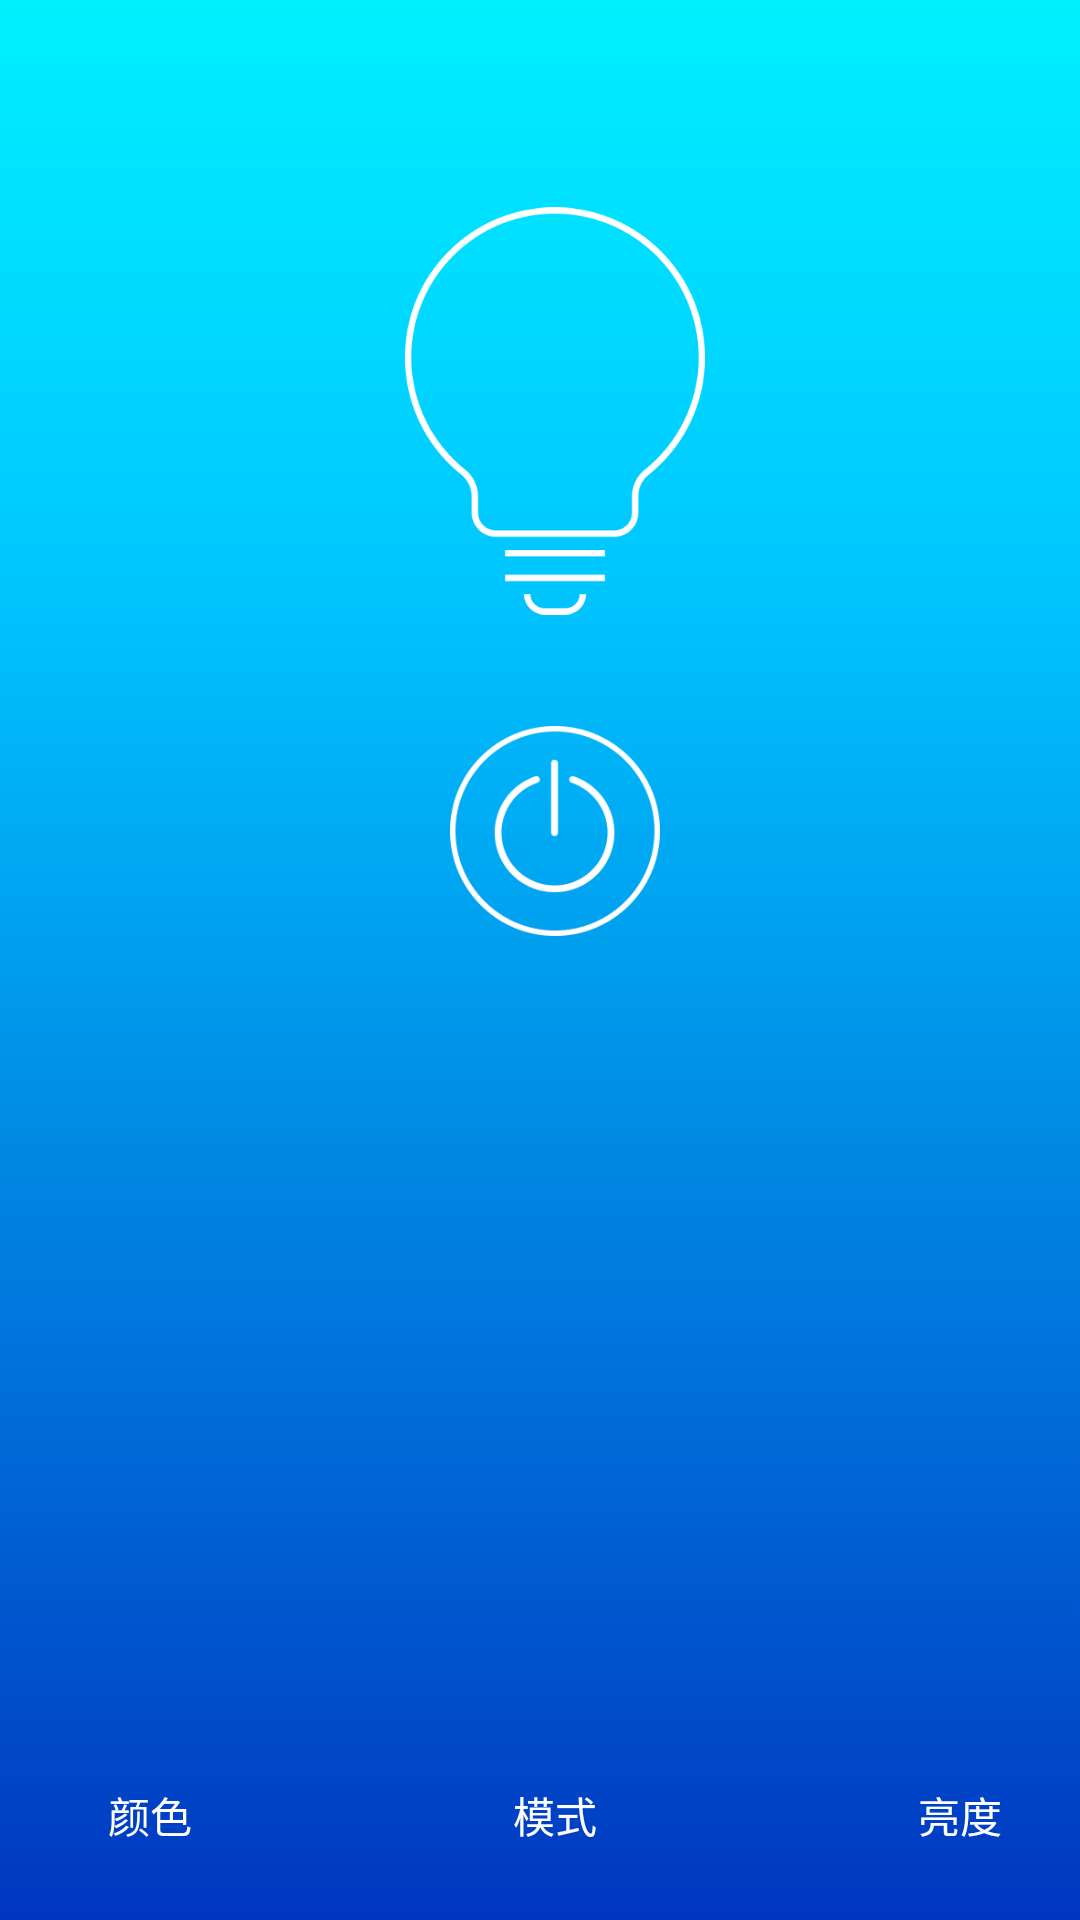

Locate icon controls on the screen. Image size 1080w x 1920h, boxes as (x1, y1, x2, y2).
smart switch: (450, 726, 660, 936)
